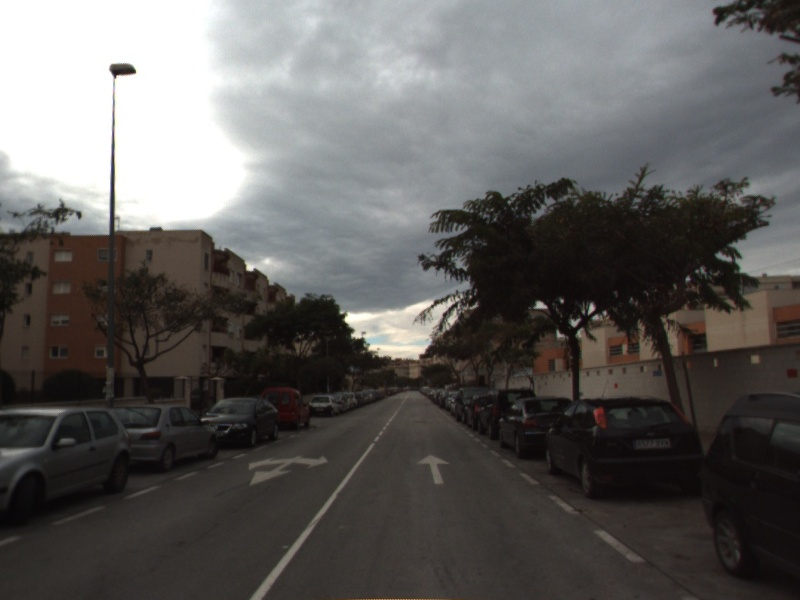STRAIGHT: (414, 452, 452, 486)
